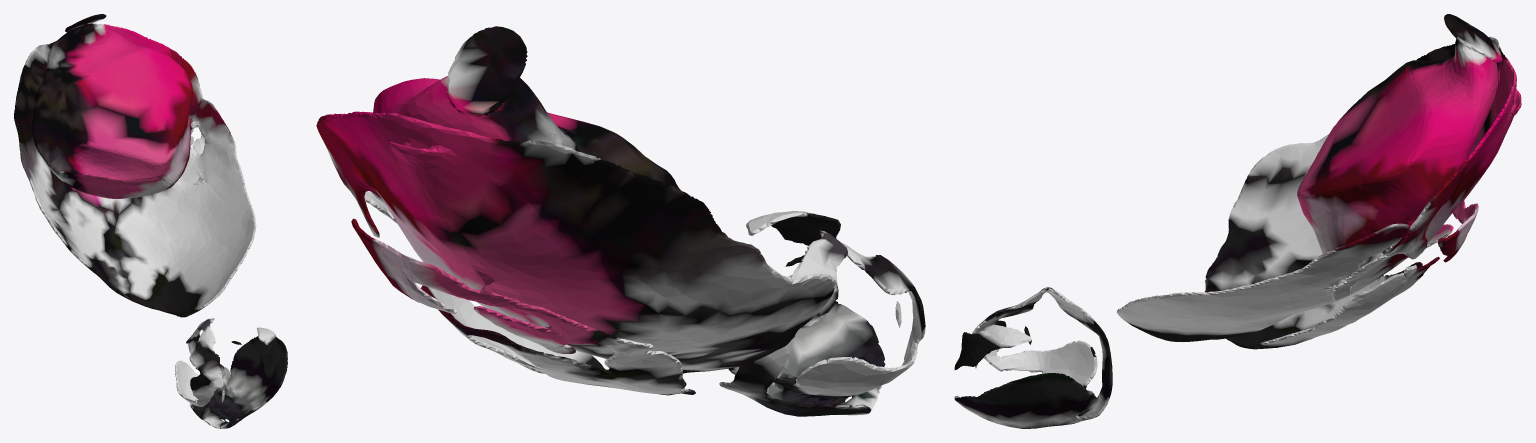
File: w_glass.glb
3 views of the same model, side by side, from view 1: azimuth 30°, elevation 25°; view 2: azimuth 150°, elevation 25°; view 3: azimuth 270°, elevation 25° (orthographic). The views are drawn at different scales.
Visible parts, largest first — view 1: geometry_0; view 2: geometry_0; view 3: geometry_0.
Boxes of the visible parts, bbox=[...] form: geometry_0: bbox=[14, 14, 287, 428]; geometry_0: bbox=[316, 26, 925, 416]; geometry_0: bbox=[954, 14, 1521, 428].
Size of the model in its own units: 0.4375 by 0.61 by 0.7382.
